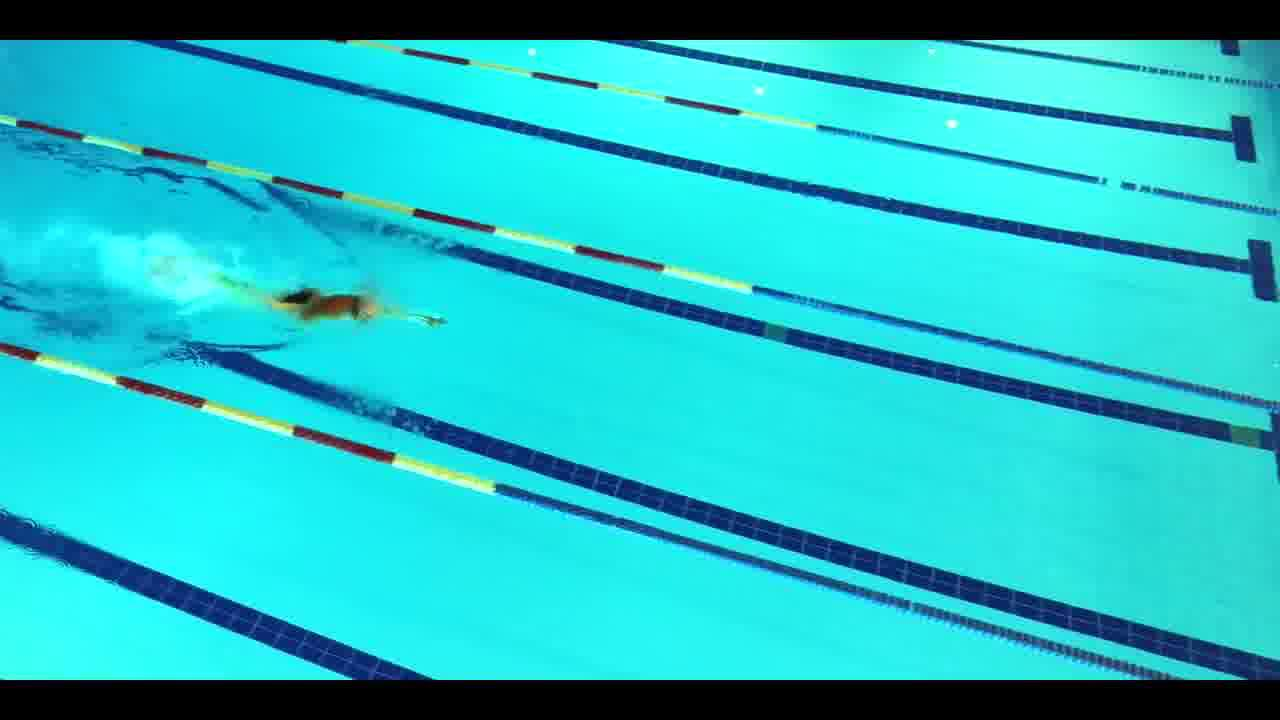swimmer: (220, 271, 471, 336)
